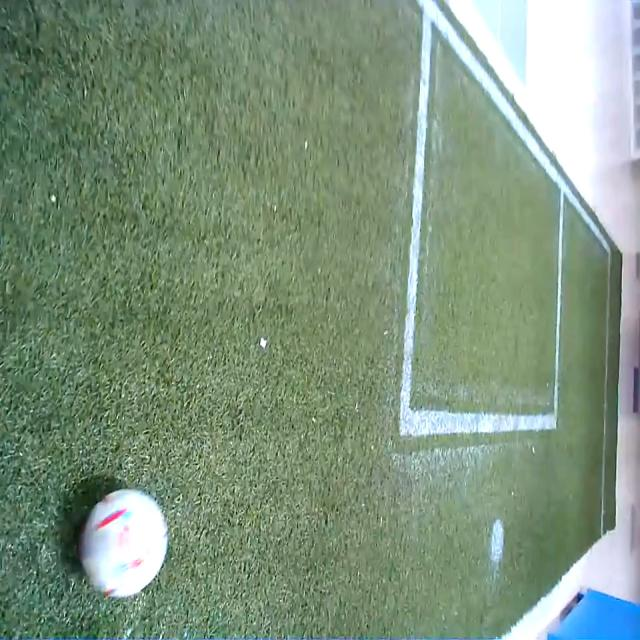ball: (80, 487, 170, 598)
